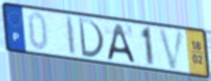0: (26, 11, 50, 53)
1: (140, 24, 157, 69)
A: (105, 22, 137, 65)
D: (77, 16, 106, 60)
I: (64, 15, 77, 57)
V: (156, 27, 186, 71)
